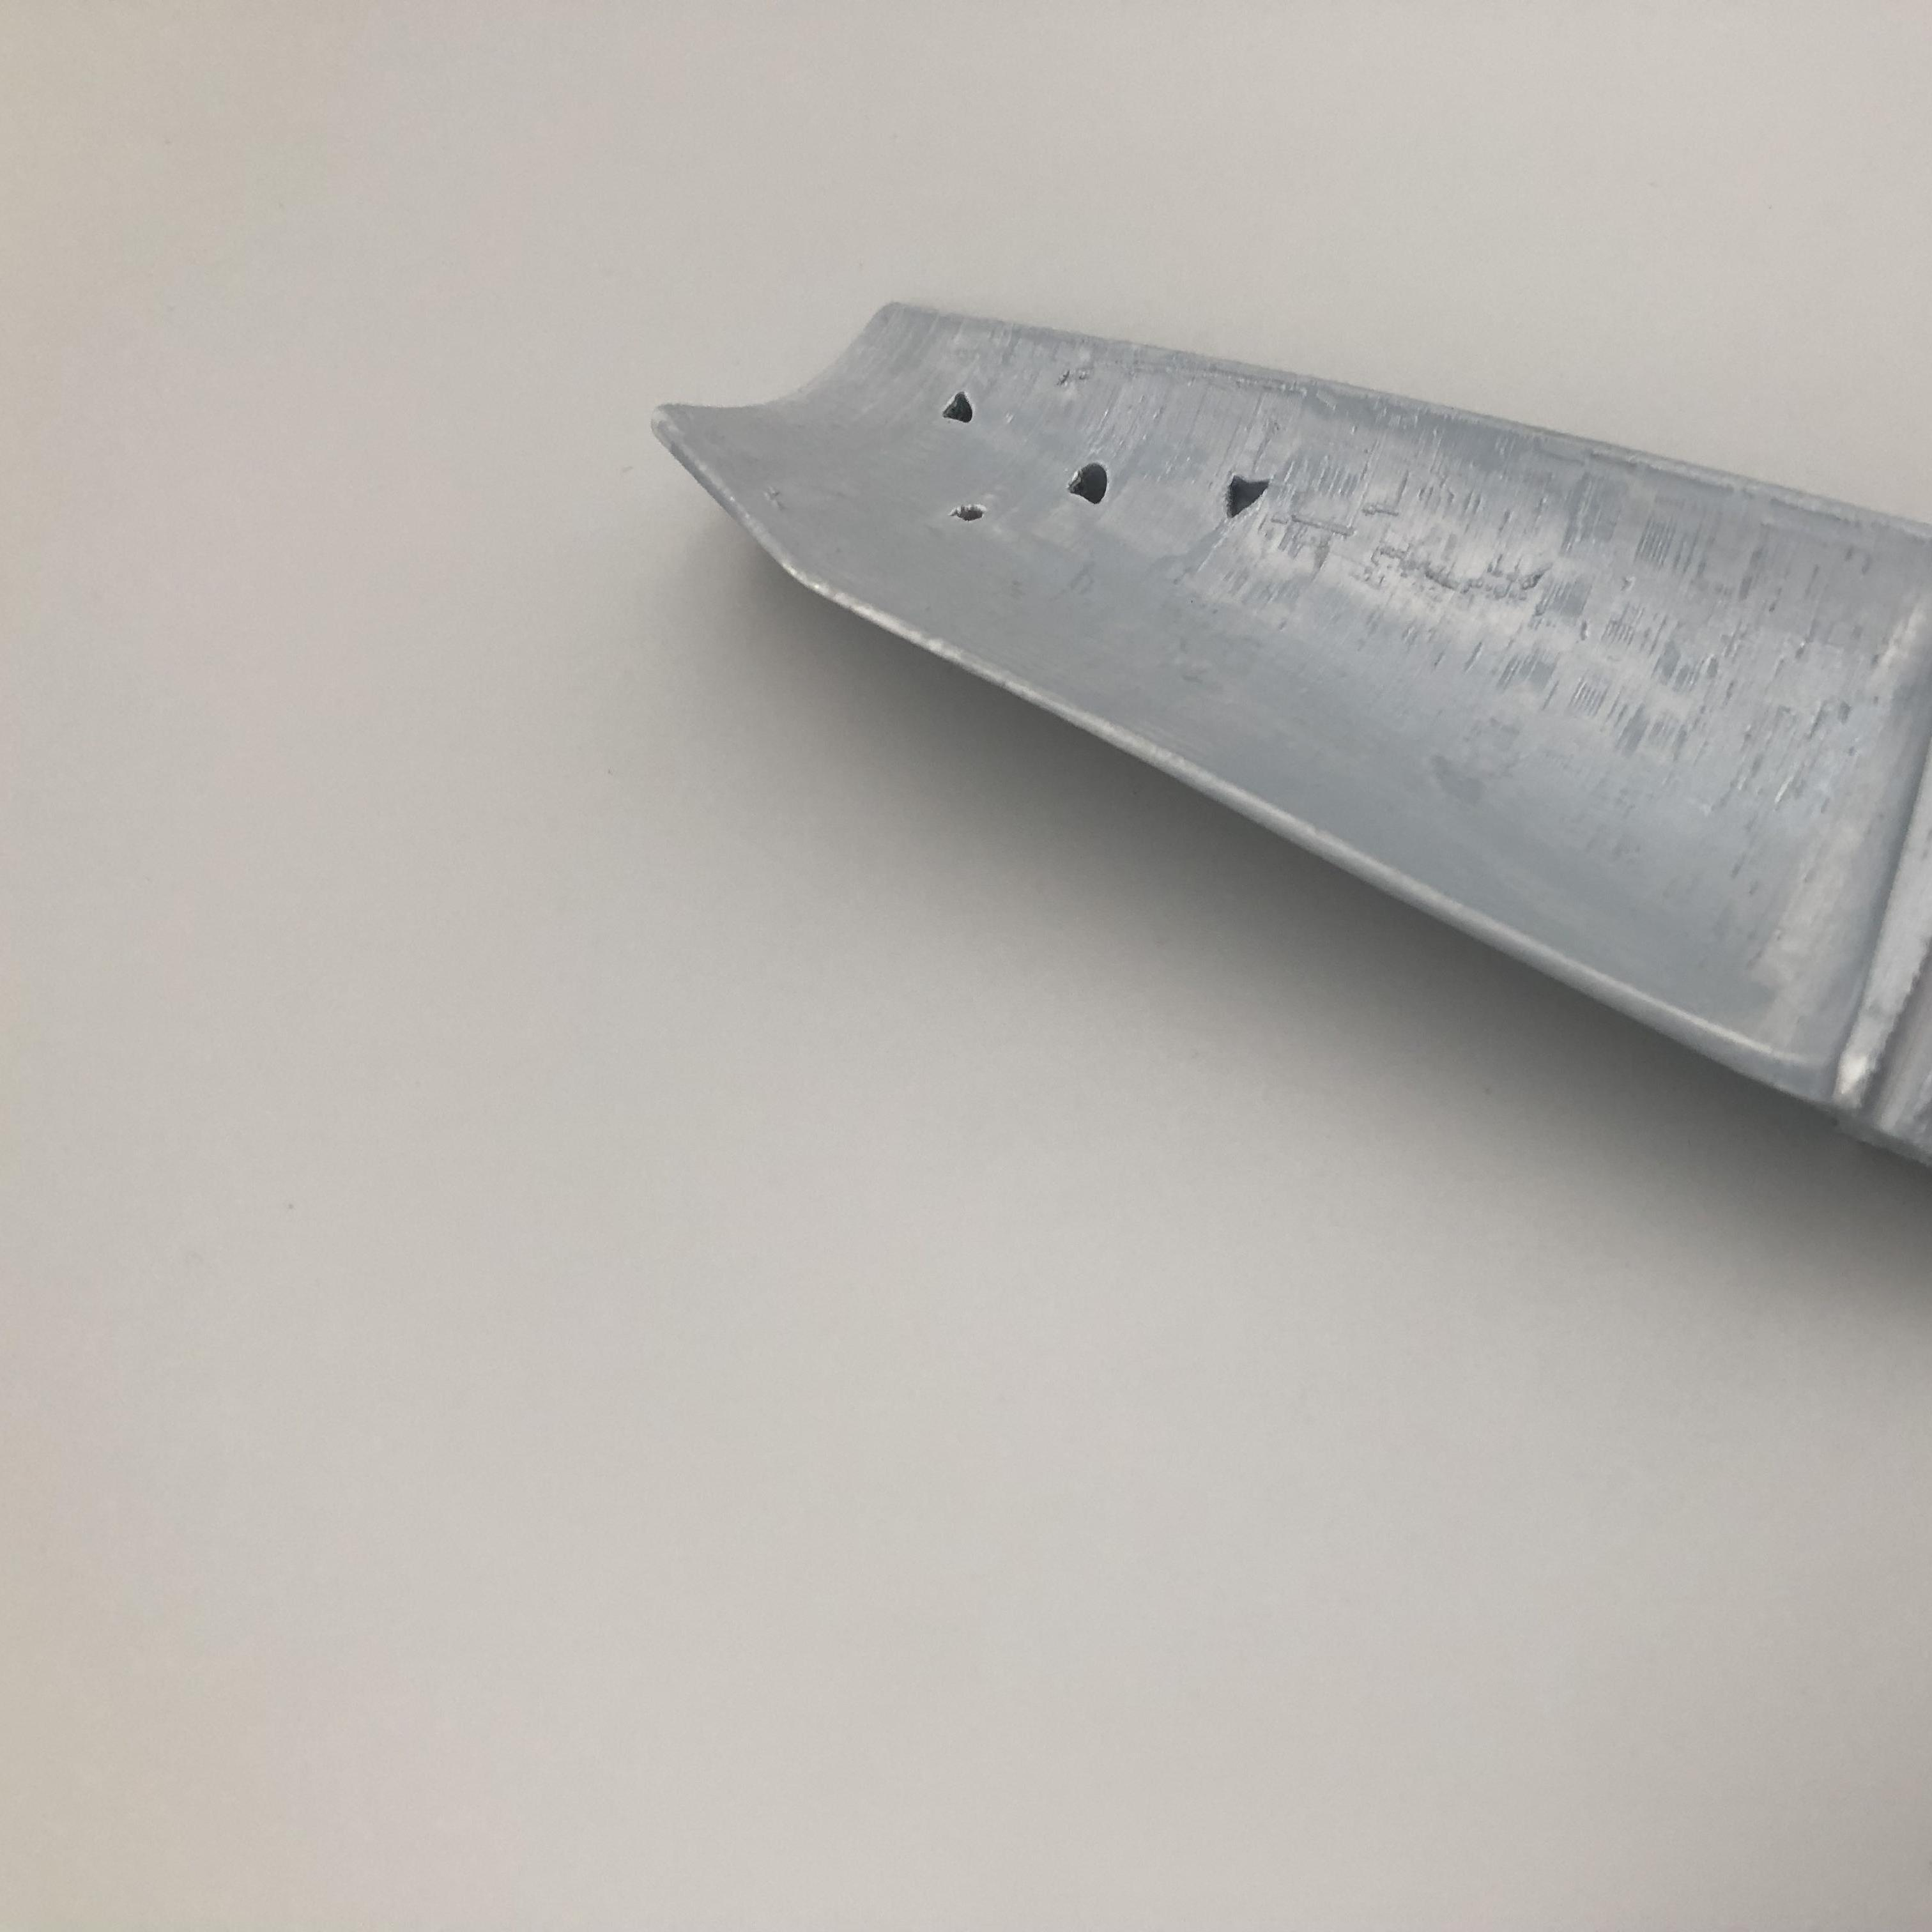breakdown: (936, 398, 1274, 533)
